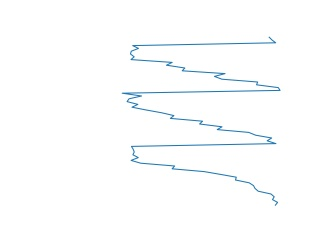distributaryMouthBar: (119, 35, 285, 208)
